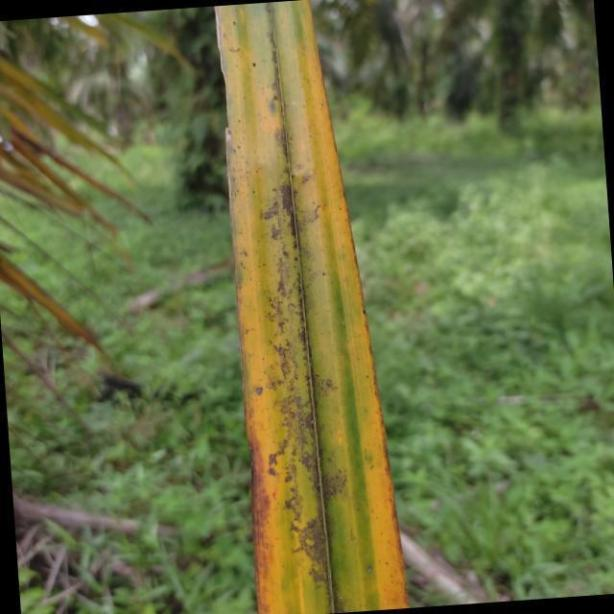Megnesium: (214, 3, 408, 614)
